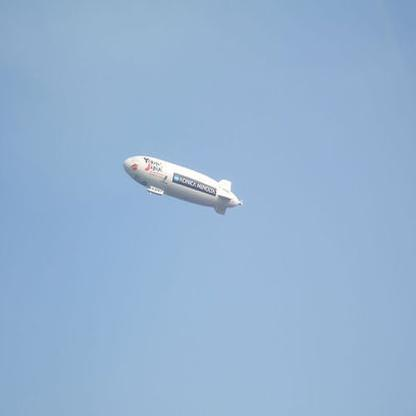Airship: (122, 151, 245, 222)
